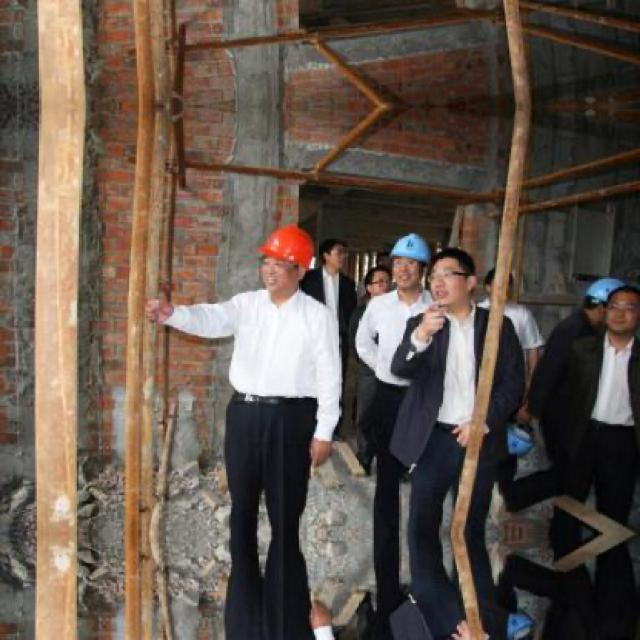con casco: (195, 220, 335, 352), (368, 226, 453, 322)
sin casco: (405, 238, 497, 337), (596, 284, 640, 341)
